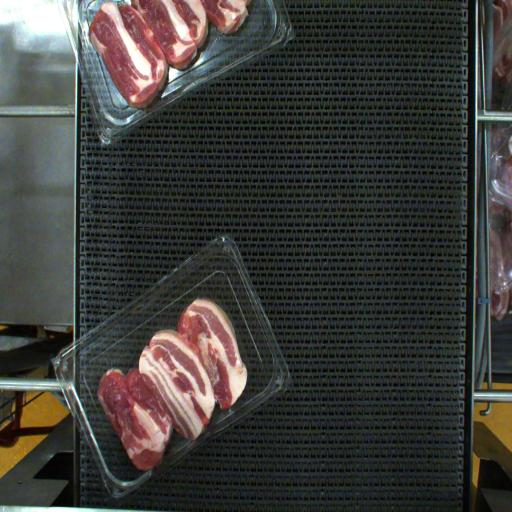packaging-error: (134, 430, 227, 469)
